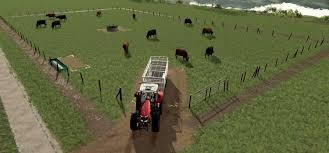cow: (175, 48, 190, 62), (200, 27, 216, 40), (146, 28, 157, 40), (204, 46, 214, 59), (51, 20, 62, 30), (123, 41, 130, 56), (36, 20, 47, 29), (54, 14, 67, 20), (184, 18, 192, 27), (45, 13, 56, 19), (96, 11, 102, 17), (132, 13, 136, 20)
